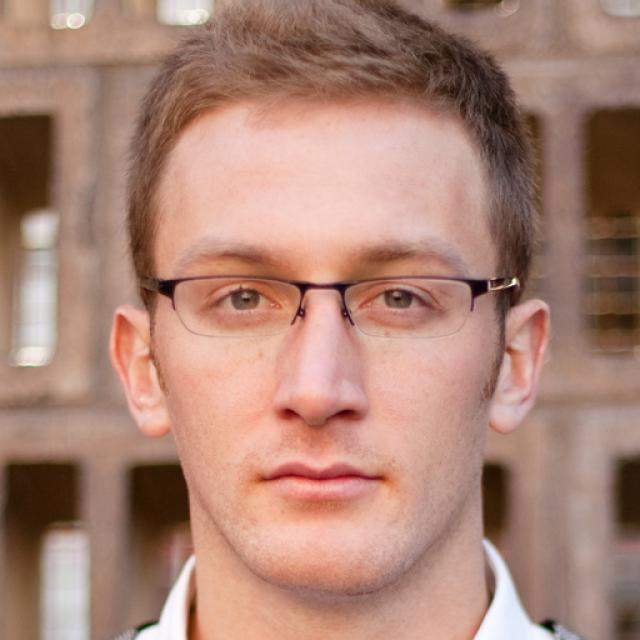neutral: (159, 101, 500, 594)
